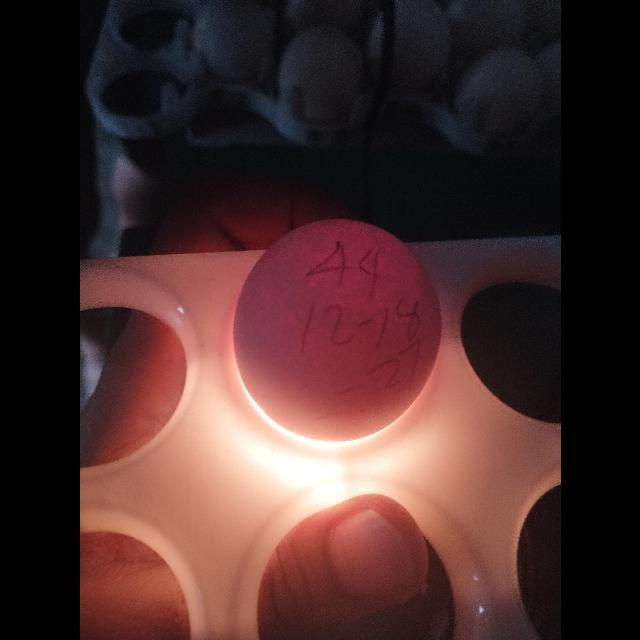Infertile: (228, 212, 447, 453)
